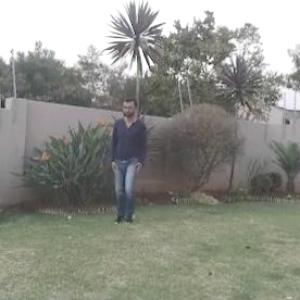follow: (108, 92, 148, 228)
